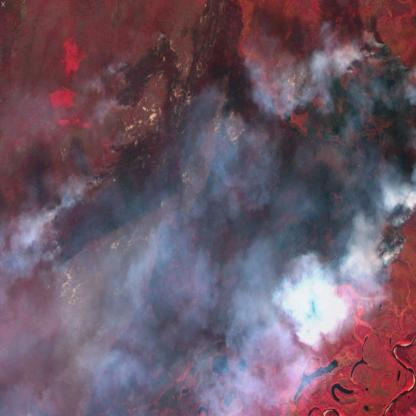fire: (49, 21, 181, 276), (304, 31, 416, 282)
